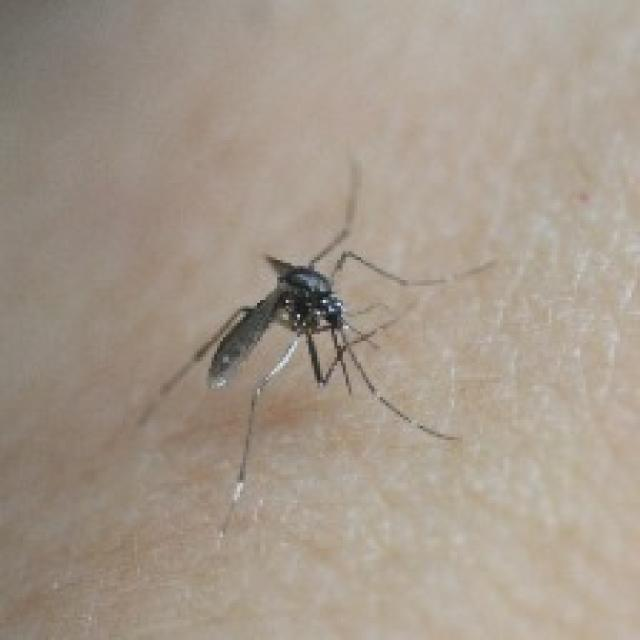aedes: (143, 154, 497, 537)
